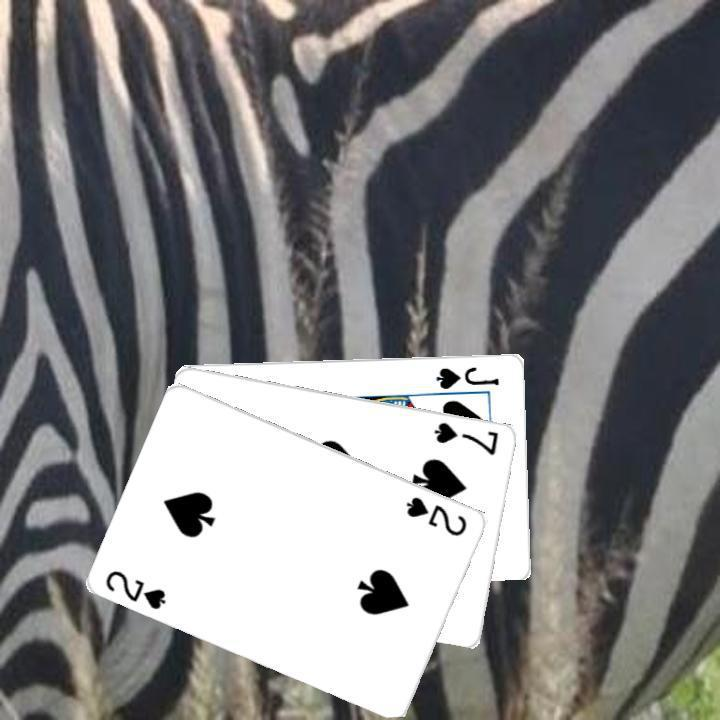2: (101, 565, 169, 612), (402, 492, 470, 538)
7: (430, 417, 501, 457)
J: (432, 361, 501, 390)
